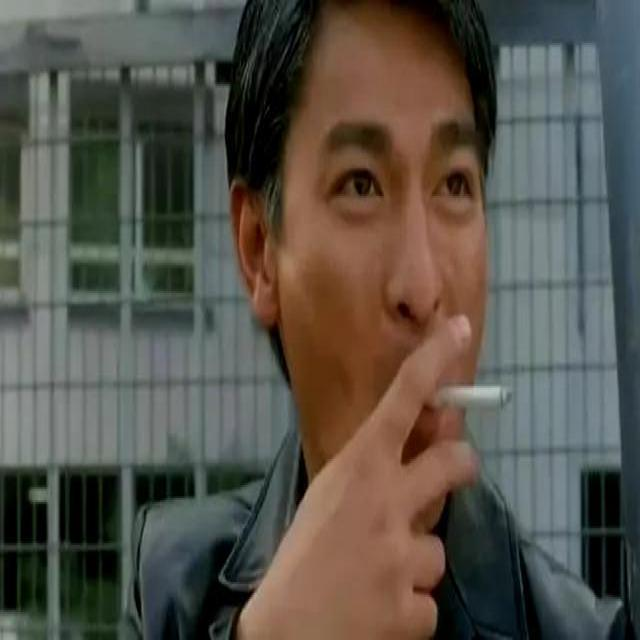cigarette: (412, 325, 523, 474)
